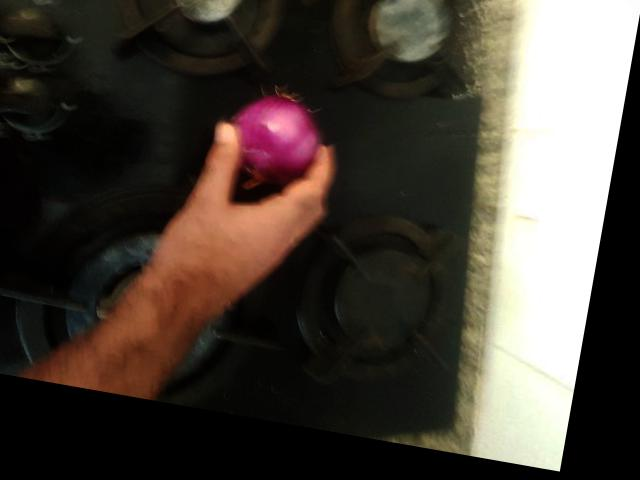onion: (365, 43, 460, 153)
